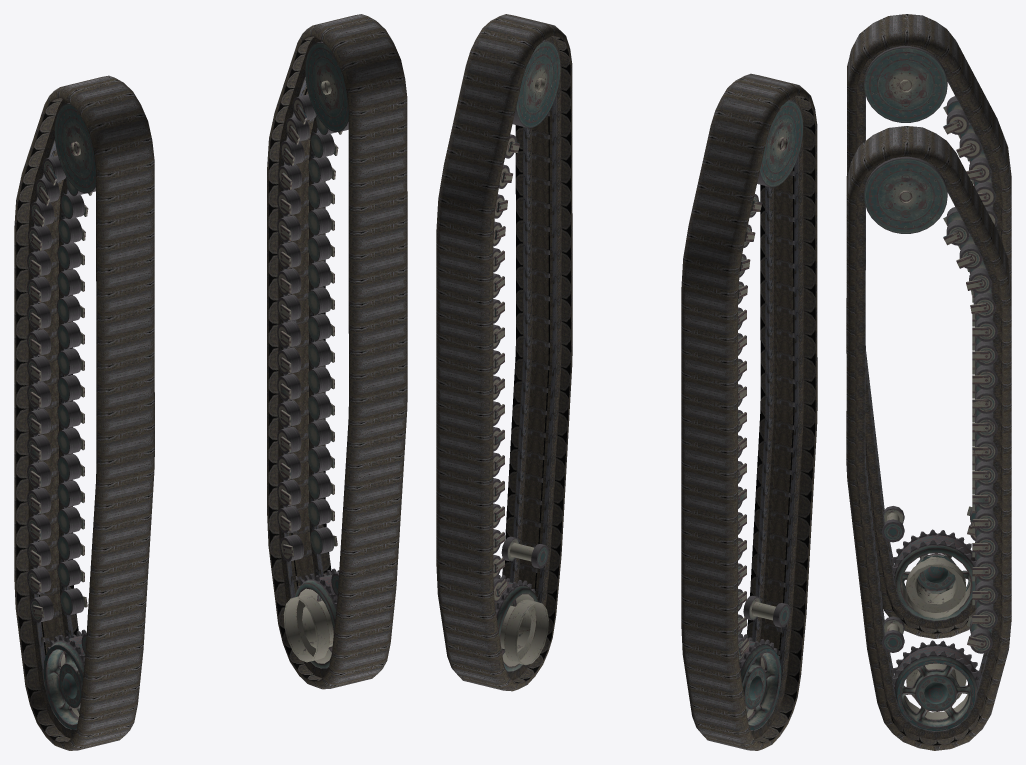
File: Chassis.glb
3 renders of one model, left to right at view 1: azimuth 30°, elevation 25°; view 2: azimuth 150°, elevation 25°; view 3: azimuth 270°, elevation 25°, orthographic. The views are drawn at different scales.
Parts seen in each view (by area): view 1: set_4_group_0, set_5_group_0, set_3_group_0, set_1_group_0, set_0_group_0, set_2_group_0; view 2: set_4_group_0, set_5_group_0, set_3_group_0, set_1_group_0, set_2_group_0, set_0_group_0; view 3: set_5_group_0, set_3_group_0, set_4_group_0, set_1_group_0, set_2_group_0, set_0_group_0.
Part boxes in pixels (x1=…): set_4_group_0: x1=14, y1=75, x2=154, y2=750; set_5_group_0: x1=267, y1=14, x2=407, y2=689; set_3_group_0: x1=277, y1=41, x2=348, y2=668; set_1_group_0: x1=27, y1=103, x2=95, y2=729; set_0_group_0: x1=30, y1=204, x2=87, y2=591; set_2_group_0: x1=280, y1=143, x2=337, y2=530; set_4_group_0: x1=681, y1=73, x2=817, y2=750; set_5_group_0: x1=436, y1=14, x2=572, y2=691; set_3_group_0: x1=493, y1=40, x2=560, y2=671; set_1_group_0: x1=738, y1=100, x2=803, y2=730; set_2_group_0: x1=494, y1=200, x2=507, y2=572; set_0_group_0: x1=738, y1=259, x2=750, y2=631; set_5_group_0: x1=846, y1=126, x2=1011, y2=750; set_3_group_0: x1=864, y1=156, x2=997, y2=730; set_4_group_0: x1=846, y1=14, x2=1011, y2=638; set_1_group_0: x1=864, y1=46, x2=997, y2=620; set_2_group_0: x1=966, y1=269, x2=988, y2=623; set_0_group_0: x1=966, y1=158, x2=987, y2=513.
Size of the model in its own units: 3.28 by 6.78 by 1.67.
6 materials, 6 textured.
